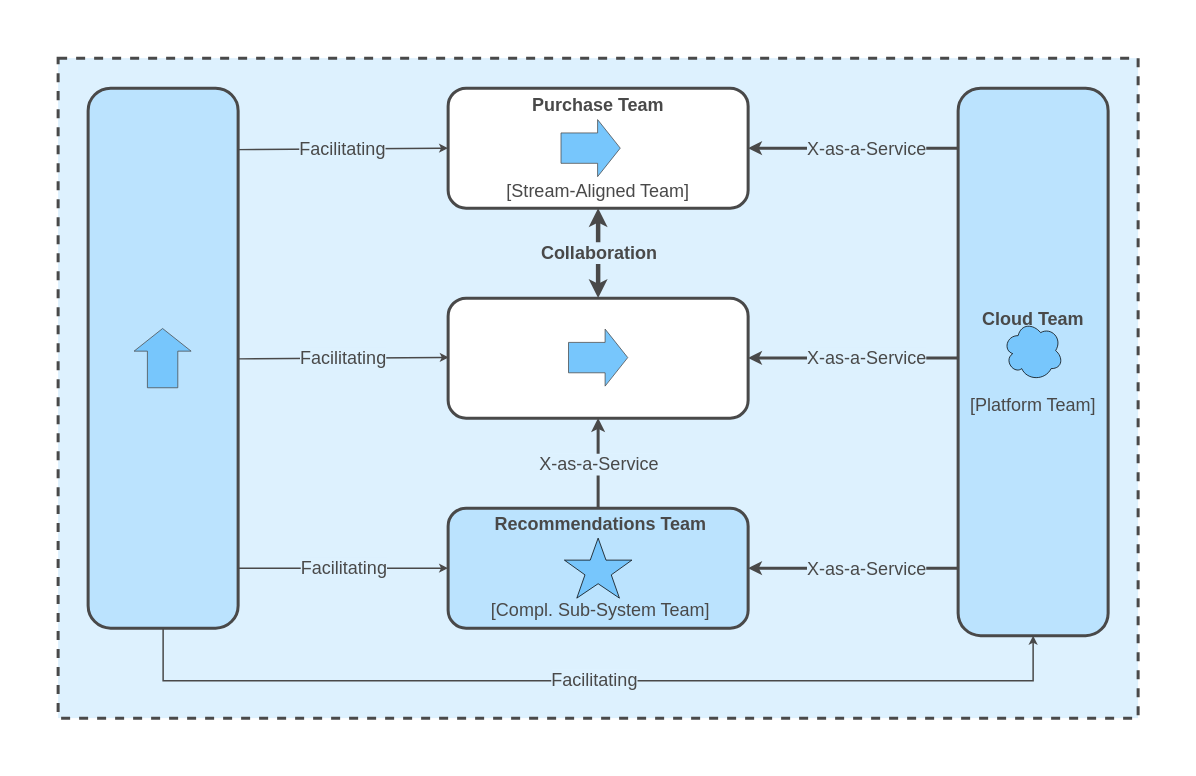
Some shapes in this 1196 by 776 pixel diagram are drawn without their labels. Here are the shapes that lost their labels. From the top down, the centre of each, then its label:
(162,357): Architecture Team [Enablement Team]
(597,357): Catalog Team [Stream-Aligned Team]
